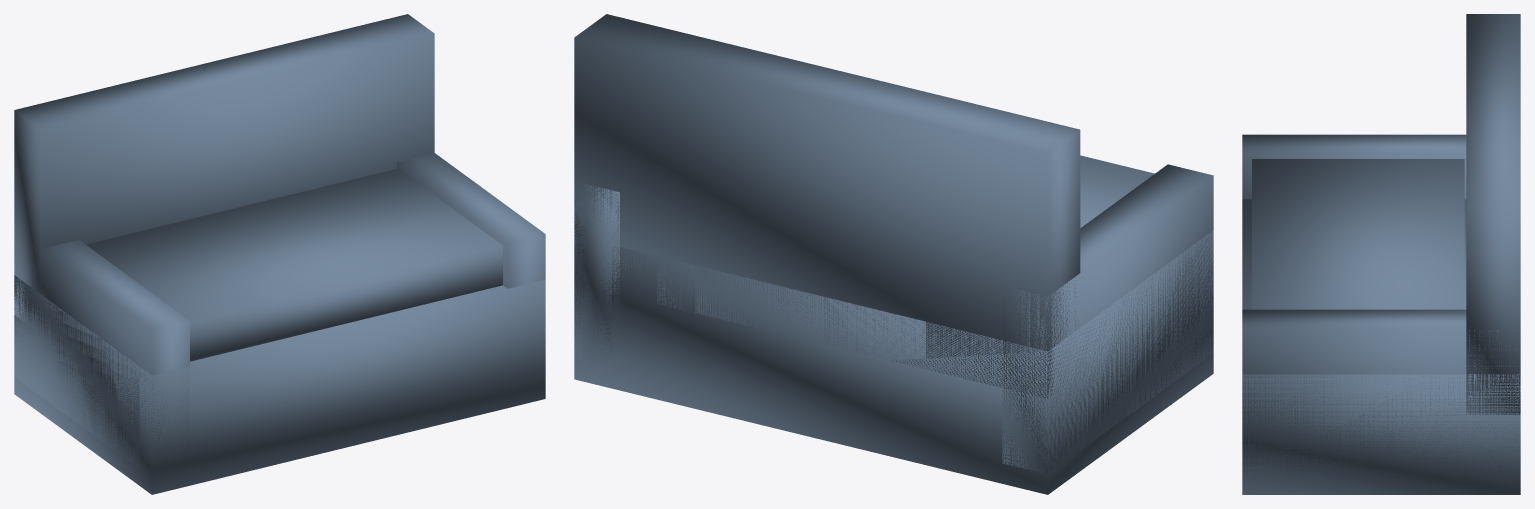
The model's file is loveseat__deep.glb.
The picture shows the model from 3 angles, left to right: view 1: azimuth 30°, elevation 25°; view 2: azimuth 150°, elevation 25°; view 3: azimuth 270°, elevation 25°; orthographic projection. The views are drawn at different scales.
Parts seen in each view (by area): view 1: world; view 2: world; view 3: world.
Part boxes in pixels (box(x1,y1,x2,y2)): world: box(14, 14, 545, 494); world: box(574, 14, 1213, 494); world: box(1242, 14, 1520, 494).
Size of the model in its own units: 1.45 by 1.03 by 0.8784.
